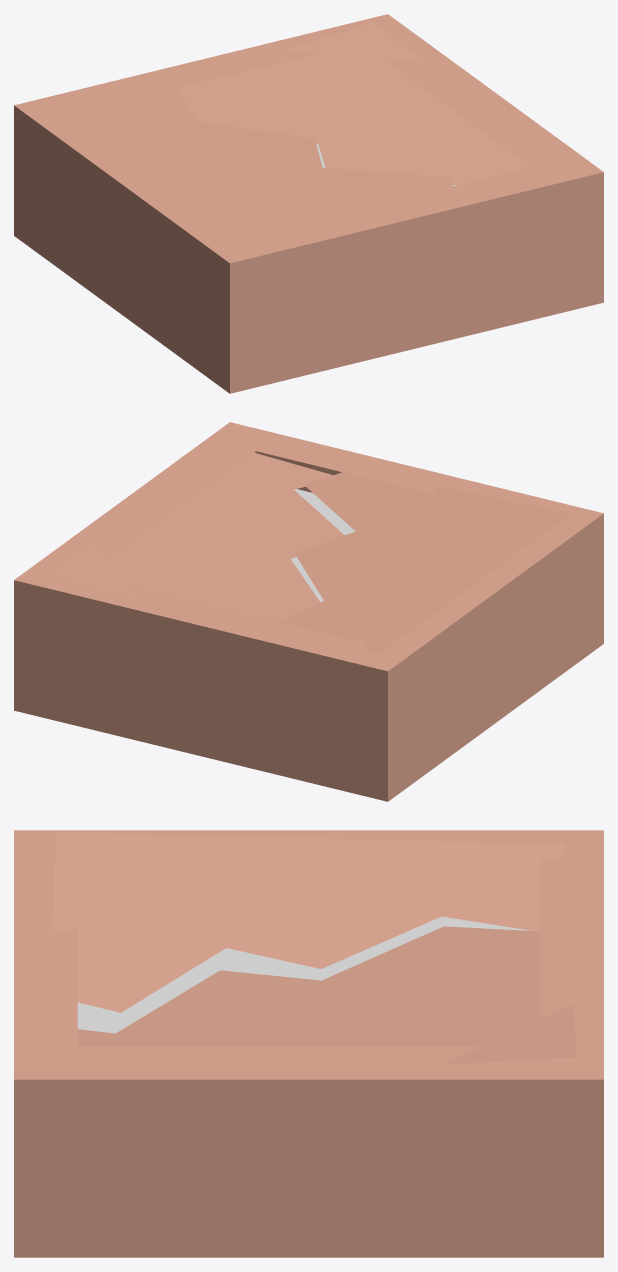
3 renders of one model, top to bottom at view 1: azimuth 30°, elevation 25°; view 2: azimuth 150°, elevation 25°; view 3: azimuth 270°, elevation 25°, orthographic. The views are drawn at different scales.
Parts seen in each view (by area): view 1: Cube, Cube.002, Cube.001; view 2: Cube, Cube.001, Cube.002, Plane; view 3: Cube, Cube.001, Cube.002, Plane.
Part boxes in pixels (x1=…): Cube: x1=14, y1=14, x2=603, y2=393; Cube.002: x1=177, y1=23, x2=530, y2=184; Cube.001: x1=51, y1=88, x2=452, y2=240; Cube: x1=14, y1=422, x2=603, y2=801; Cube.001: x1=276, y1=472, x2=570, y2=654; Cube.002: x1=48, y1=452, x2=344, y2=621; Plane: x1=290, y1=489, x2=355, y2=602; Cube: x1=14, y1=830, x2=603, y2=1257; Cube.001: x1=52, y1=832, x2=564, y2=1012; Cube.002: x1=77, y1=926, x2=576, y2=1064; Plane: x1=77, y1=916, x2=531, y2=1033.
Size of the model in its own units: 150 by 52.72 by 150.
